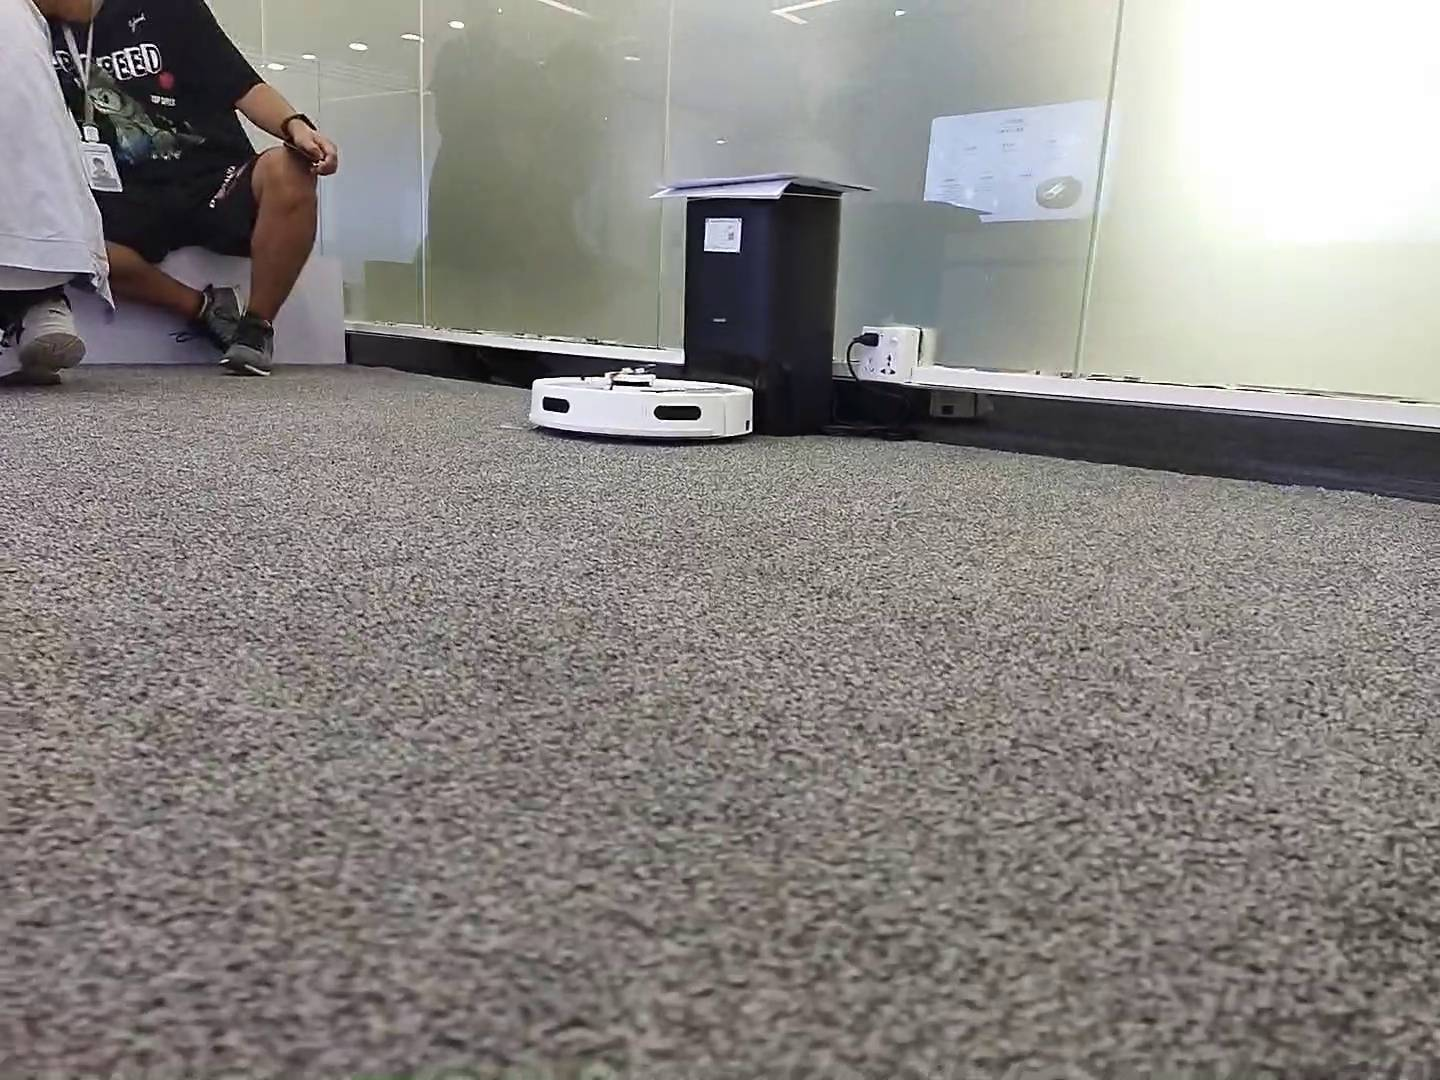dust collecting barrel: (680, 183, 845, 436)
